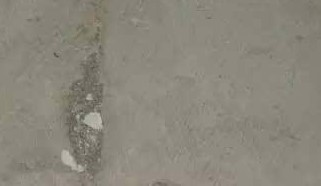Spalling: (65, 51, 104, 179)
